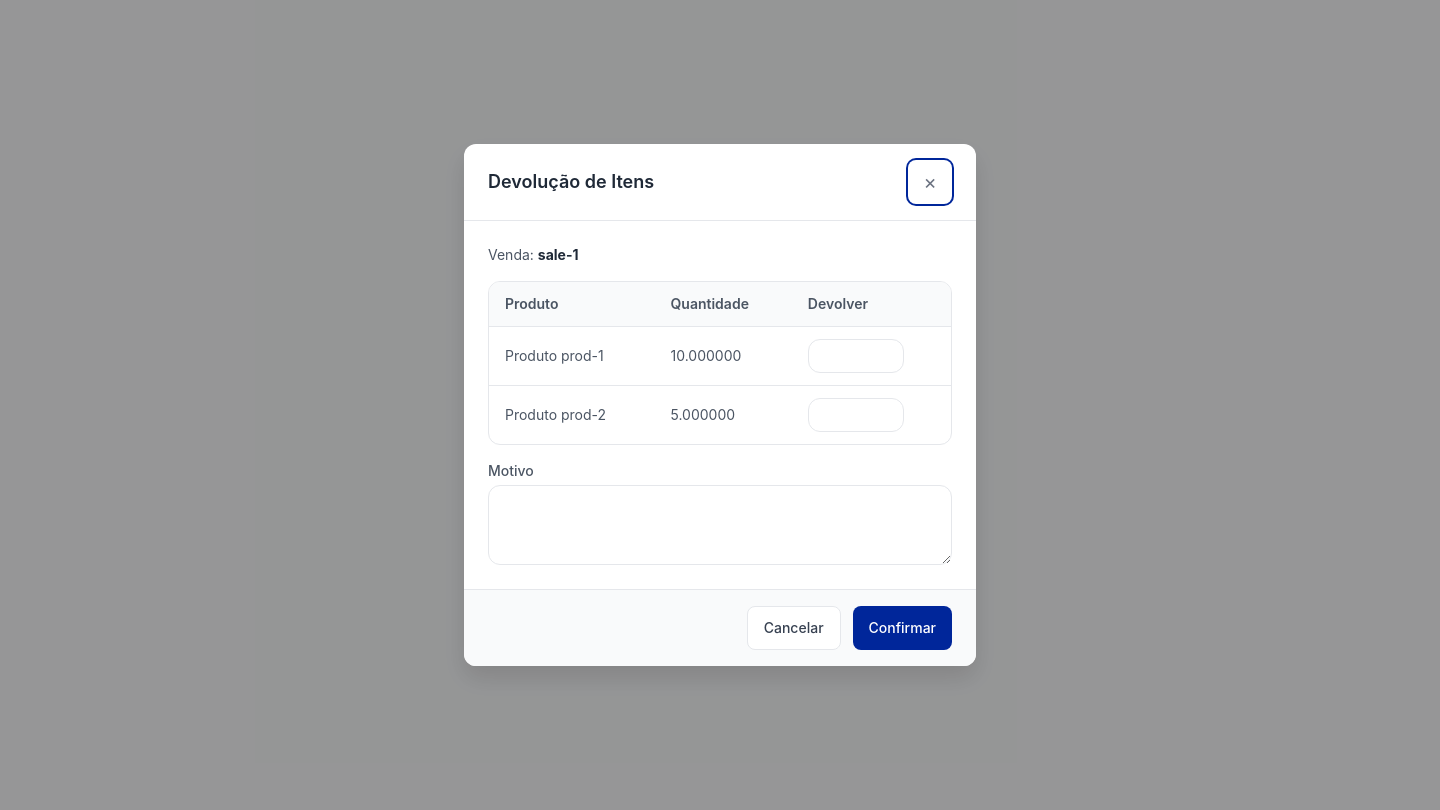
Test: ReturnDialog › shows validation error when reason is empty
expect the text "Produto prod-1" is shown: met, box [489, 326, 654, 386]
Step 1. Type "3" into the number field with test id "^return-qty-" → [856, 356], box [808, 339, 904, 373]
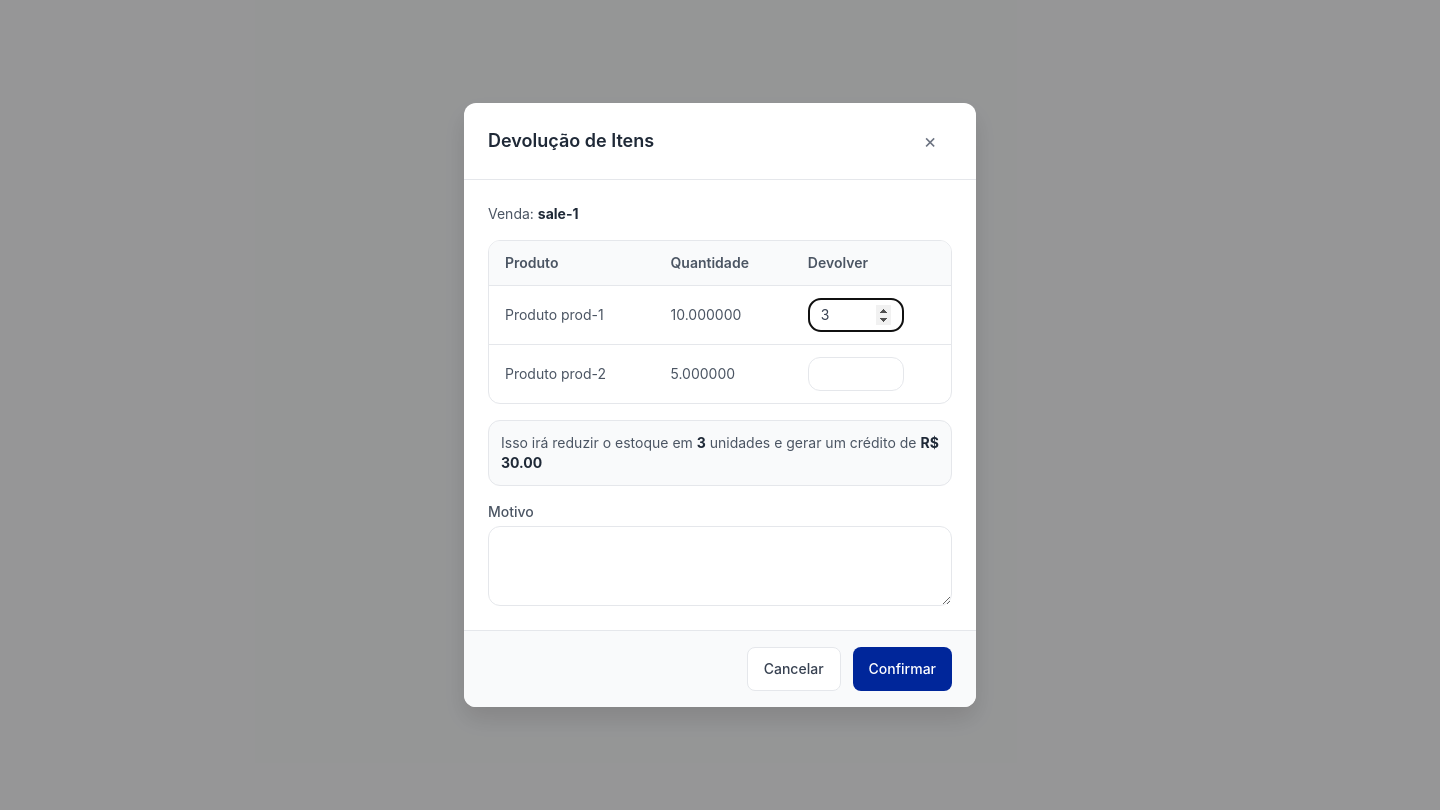
Step 2. Click the button "Confirmar" → [902, 669], box [853, 647, 952, 691]
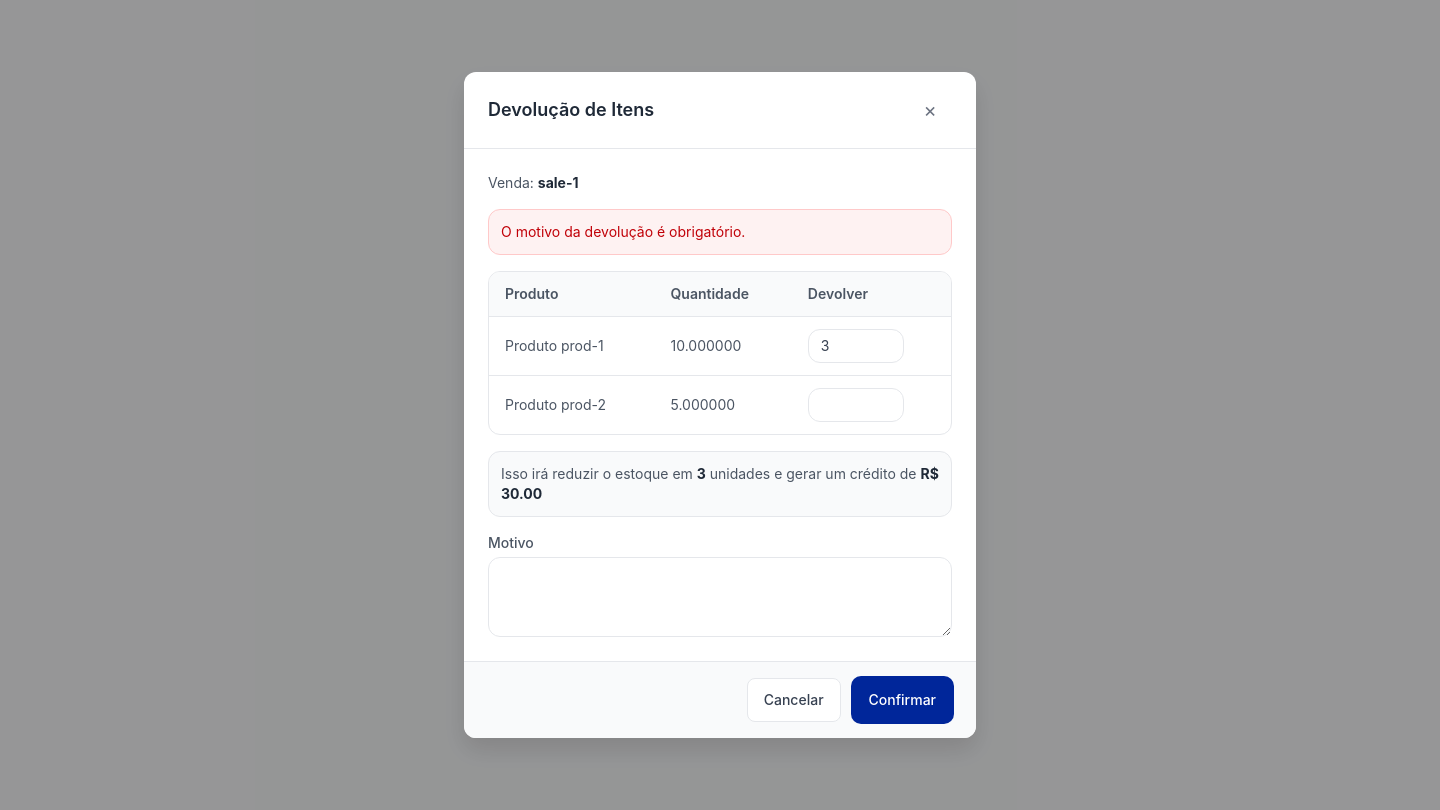
expect the message with test id "return-error" shows "motivo": met, box [501, 223, 745, 240]
